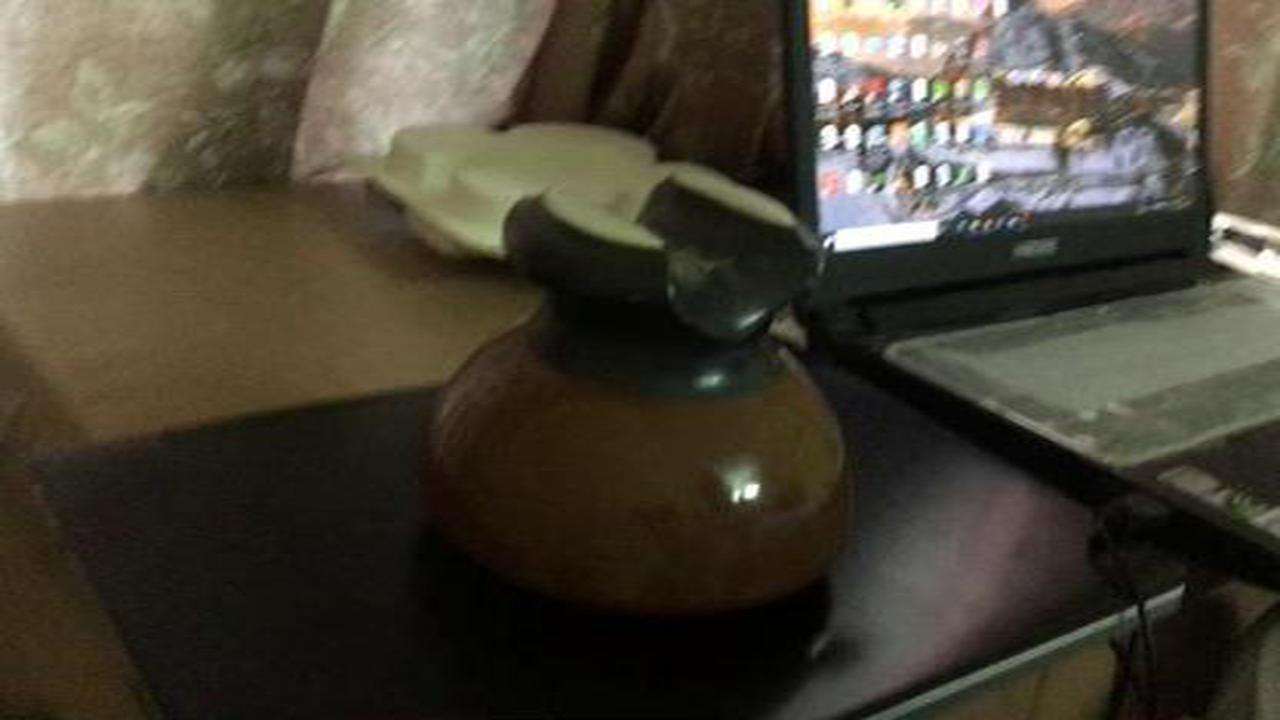insulator_pin: (407, 154, 874, 641)
